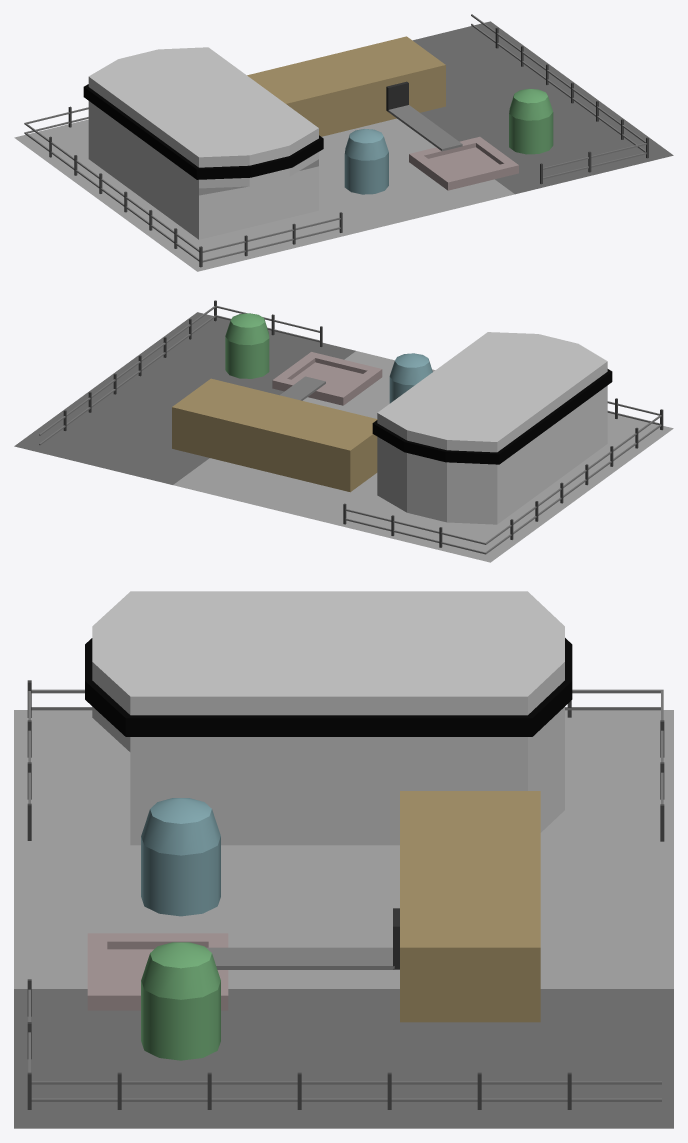
File: Building_PowderMetallurgy.fbx
3 renders of one model, top to bottom at view 1: azimuth 30°, elevation 25°; view 2: azimuth 150°, elevation 25°; view 3: azimuth 270°, elevation 25°, orthographic. The views are drawn at different scales.
Visible parts, largest first — view 1: Mesh17, Floor_Unit3; view 2: Mesh17, Floor_Unit3; view 3: Mesh17, Floor_Unit3.
Boxes of the visible parts, x1,y1,x2,y2 form: Mesh17: (24, 14, 648, 267); Floor_Unit3: (14, 21, 673, 271); Mesh17: (39, 300, 663, 554); Floor_Unit3: (14, 312, 673, 562); Mesh17: (27, 591, 664, 1109); Floor_Unit3: (14, 710, 673, 1128).
Bounding box in the file's own units: 3 × 0.5062 × 2.
